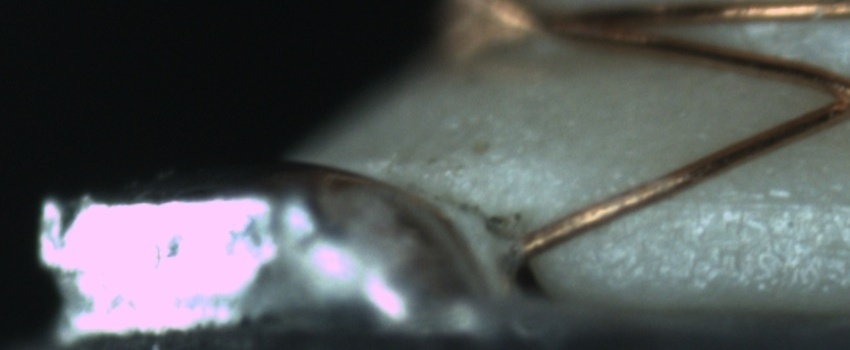DL: (636, 166, 850, 236)
